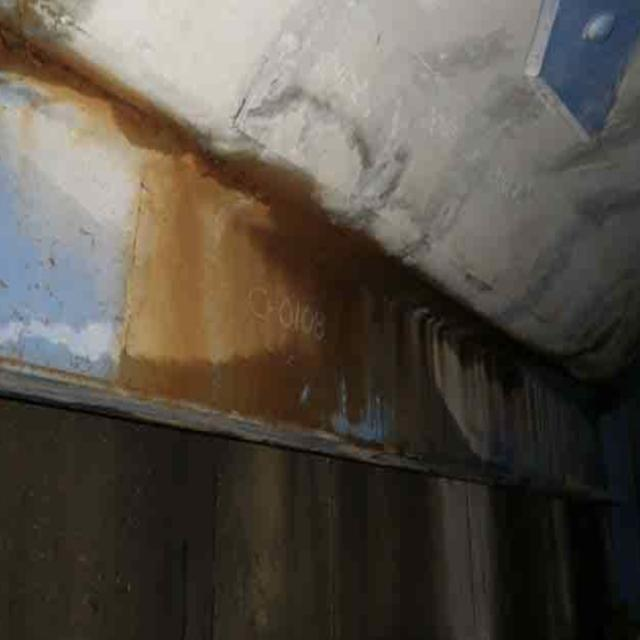corrosion: (24, 37, 490, 472)
